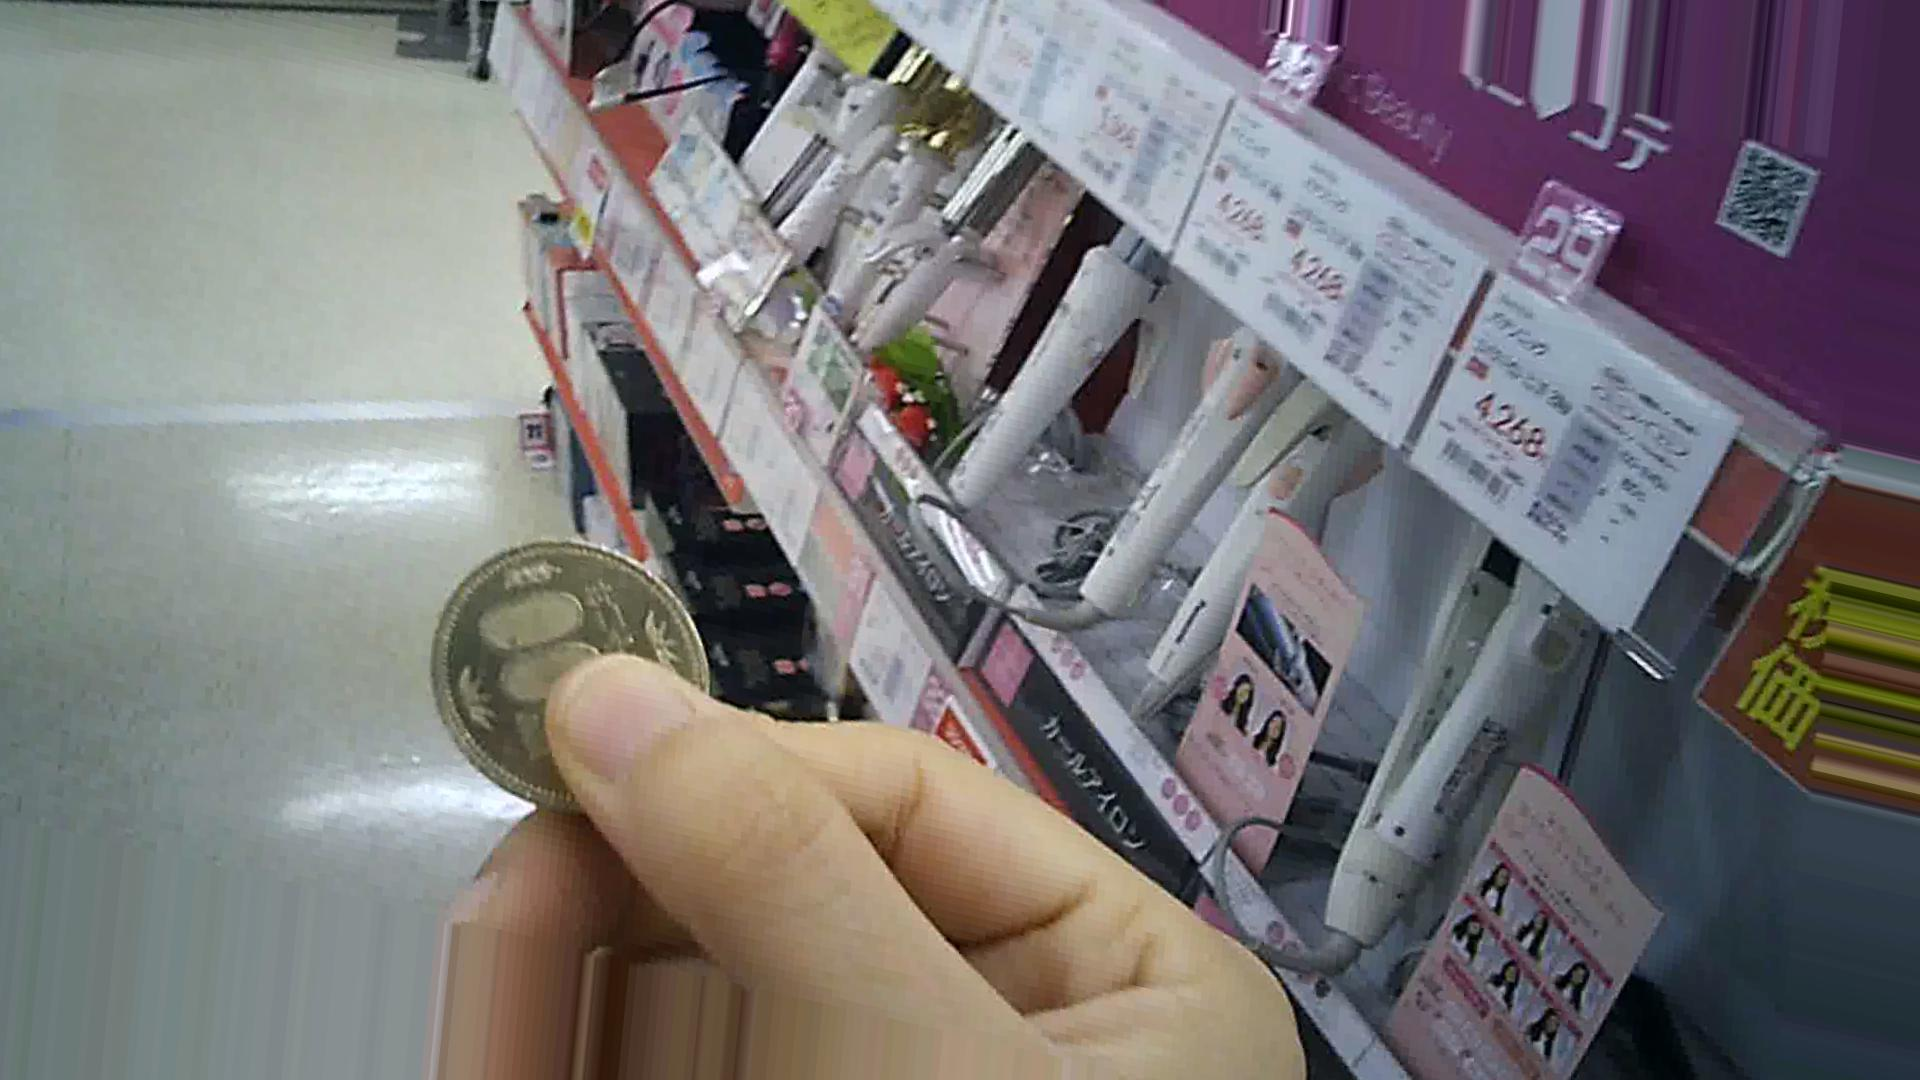500 Yen: (414, 527, 728, 829)
